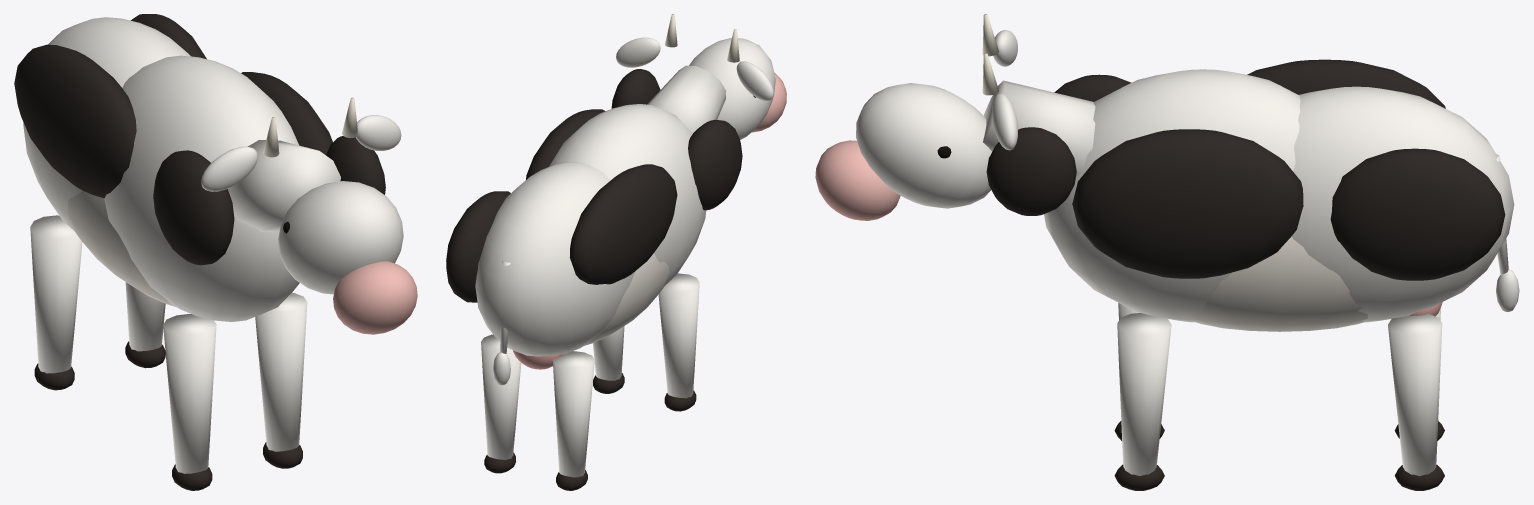
Rendered from cattle.glb.
3 renders of one model, left to right at view 1: azimuth 30°, elevation 25°; view 2: azimuth 150°, elevation 25°; view 3: azimuth 270°, elevation 25°, orthographic. The views are drawn at different scales.
Parts seen in each view (by area): view 1: cattle; view 2: cattle; view 3: cattle.
Part boxes in pixels (x1=…): cattle: x1=14, y1=14, x2=417, y2=490; cattle: x1=446, y1=14, x2=786, y2=490; cattle: x1=815, y1=14, x2=1519, y2=490.
Size of the model in its own units: 0.9853 by 2.01 by 2.97.
